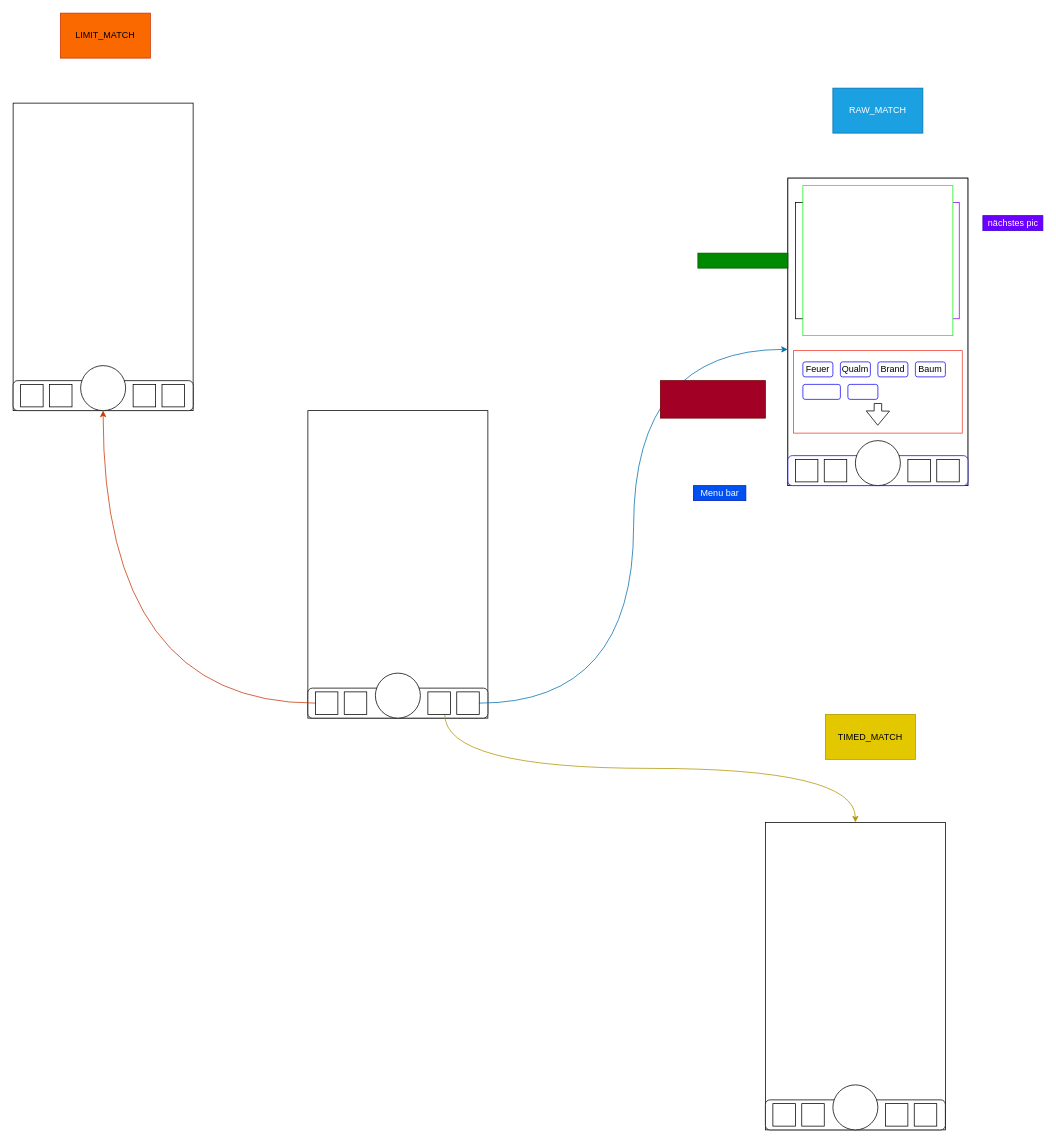
This 1056x1143 diagram has some shape labels left out. The shapes that lost their labels are listed below. From the top down, each one's box as (x1, y1, x2, y2) in pixels, then its label:
(697, 252, 788, 268): zu matchendes pic
(660, 380, 765, 418): box zum extenden mit prompt key words zum auswählen
(802, 384, 840, 399): Draußen
(847, 384, 878, 399): Nacht
(307, 410, 488, 718): HOME
